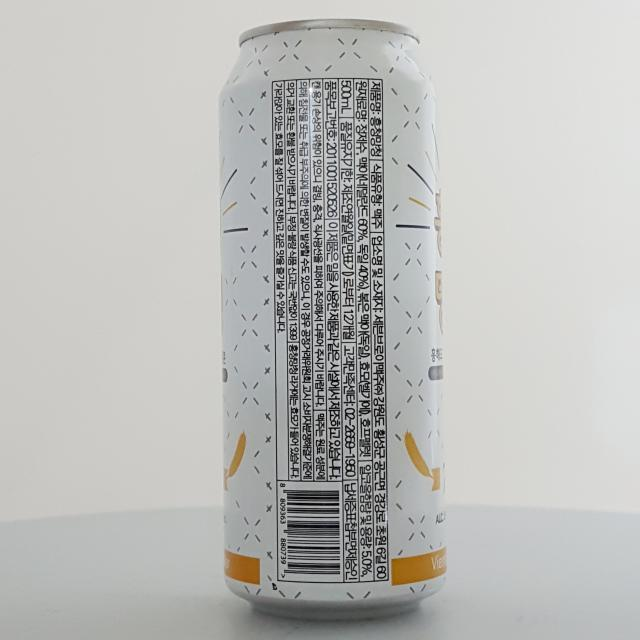can: (212, 9, 452, 626)
